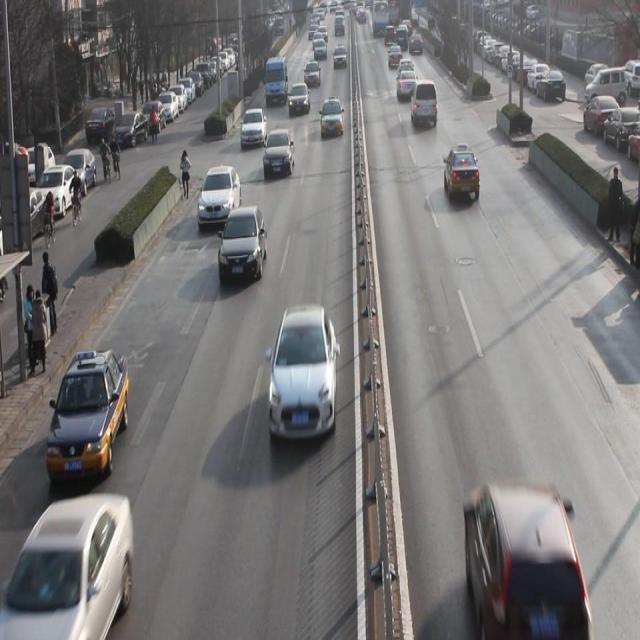car: (465, 480, 590, 633), (1, 500, 133, 640), (48, 352, 130, 479), (270, 309, 338, 439), (220, 209, 268, 283), (198, 165, 244, 227), (445, 146, 481, 204), (263, 128, 296, 178), (240, 105, 267, 149), (319, 94, 345, 138), (288, 81, 312, 119), (397, 69, 420, 104), (303, 58, 322, 89)
truck: (410, 77, 438, 127), (264, 54, 288, 108)
